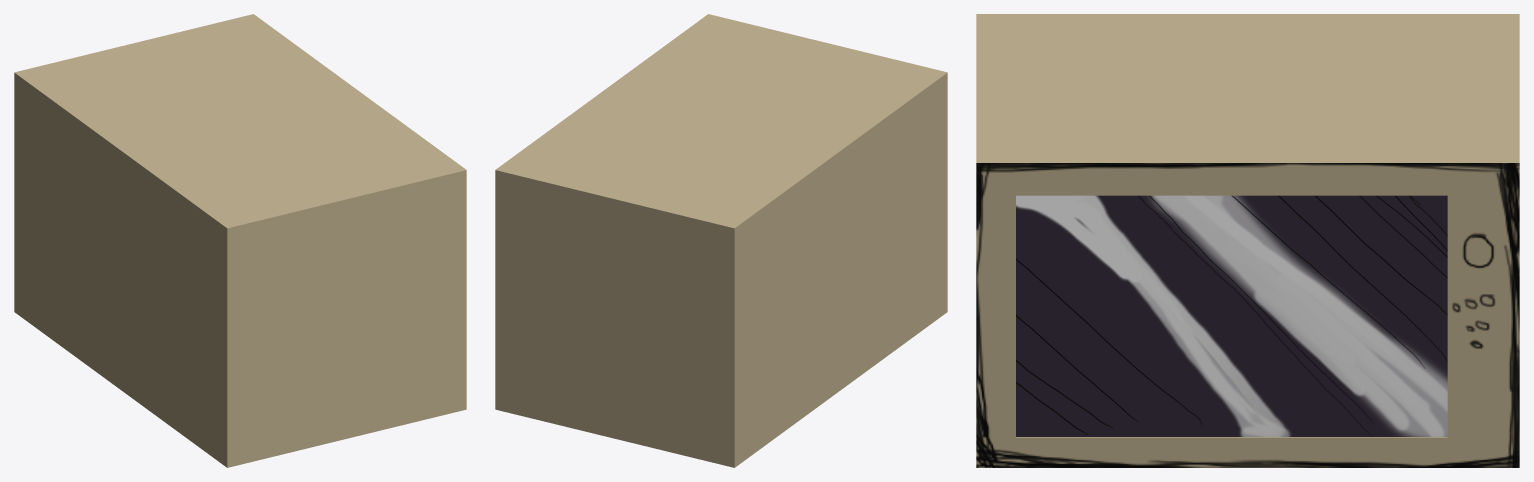
Rendered from microwave (5).fbx.
3 renders of one model, left to right at view 1: azimuth 30°, elevation 25°; view 2: azimuth 150°, elevation 25°; view 3: azimuth 270°, elevation 25°, orthographic. The views are drawn at different scales.
Parts seen in each view (by area): view 1: microwave_main; view 2: microwave_main; view 3: microwave_main, microwave_door.
Part boxes in pixels (x1=…): microwave_main: x1=14, y1=14, x2=466, y2=467; microwave_main: x1=495, y1=14, x2=947, y2=467; microwave_main: x1=976, y1=14, x2=1519, y2=467; microwave_door: x1=1016, y1=195, x2=1447, y2=436.
Size of the model in its own units: 0.5087 by 0.4862 by 0.7842.
Materials: 2 (2 with a texture image).
